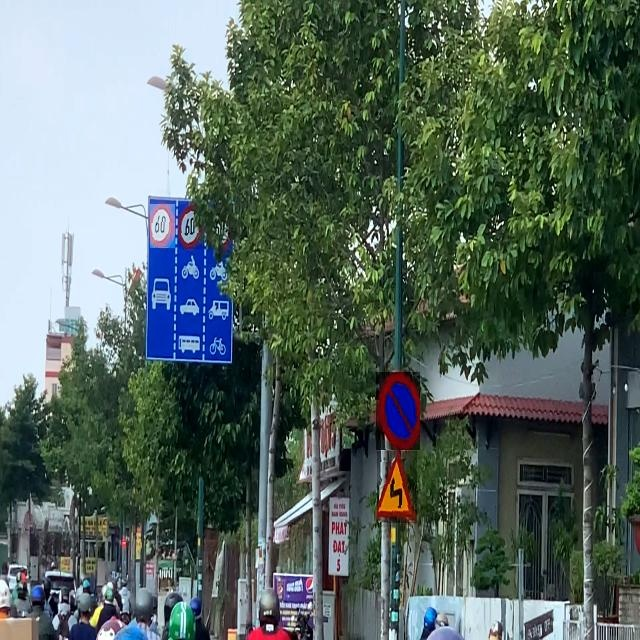bien_cam: (376, 372, 420, 450), (377, 451, 417, 523), (179, 204, 204, 250), (150, 204, 175, 248)
